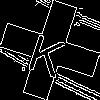K: (25, 25, 71, 78)
